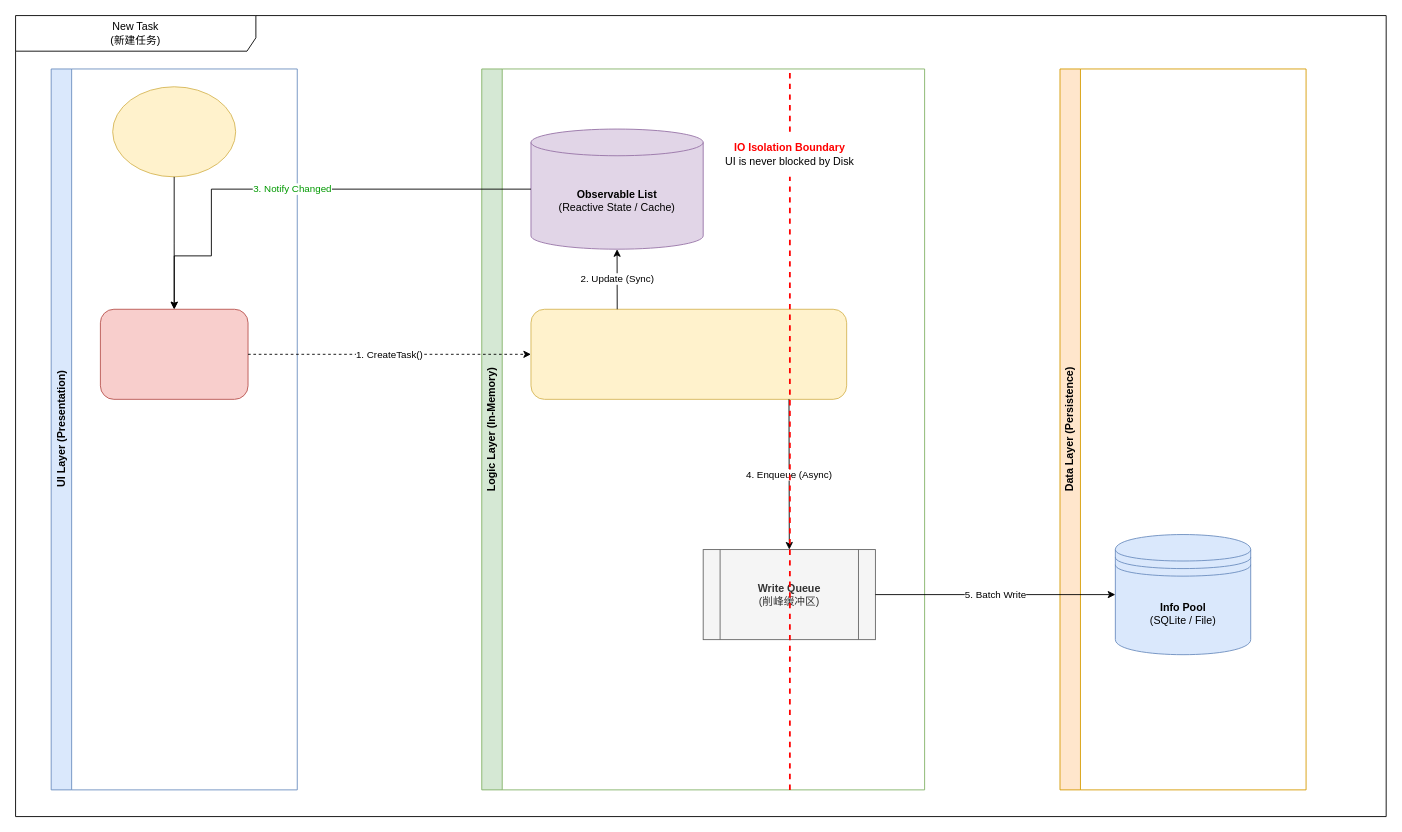
The diagram is 1402 pixels wide and 832 high, and some of its shapes have lost their labels. Here are the shapes that lost their labels. From the top down, the centre of each, then its label:
At [174,131]: "User Input (Enter Key)".
At [174,353]: "Flight Panel (仪表盘 UI)".
At [688,353]: "Task Dispatcher (Singleton Controller)".
